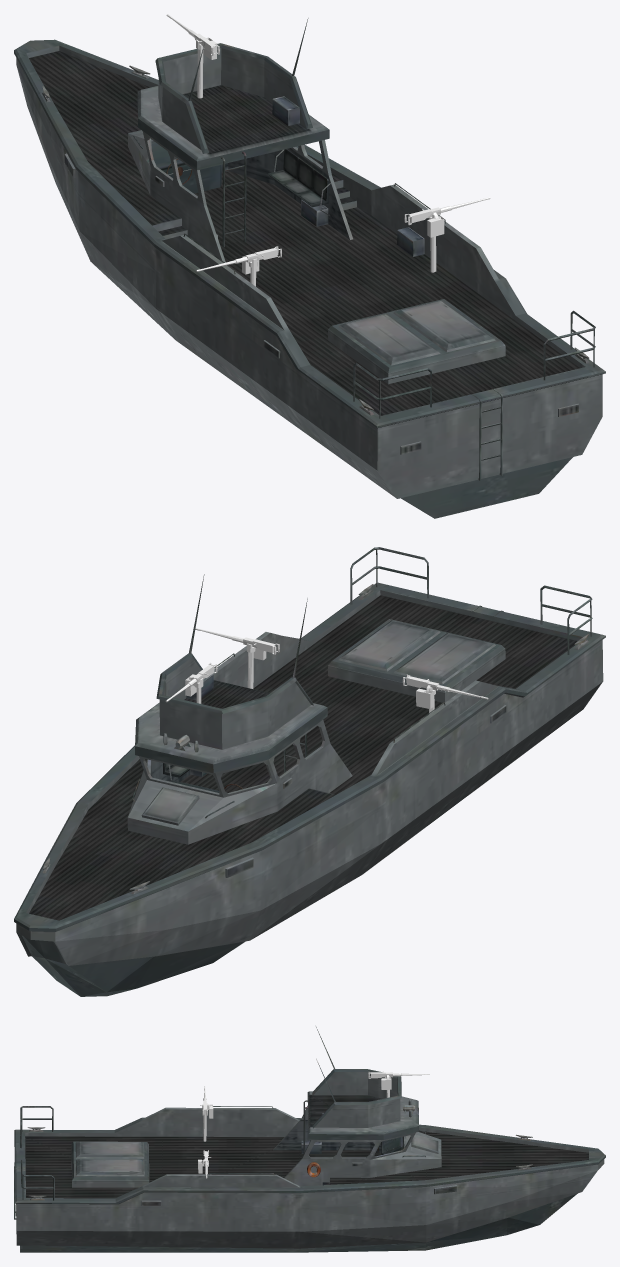
File: boat.glb
The picture shows the model from 3 angles, top to bottom: view 1: azimuth 30°, elevation 25°; view 2: azimuth 150°, elevation 25°; view 3: azimuth 270°, elevation 25°; orthographic projection. The views are drawn at different scales.
Visible parts, largest first — view 1: hull, GunR, GunRoof, GunL; view 2: hull, GunR, GunL, GunRoof; view 3: hull, GunRoof.
Boxes of the visible parts, <box> form: hull: <box>14,18,605,518</box>; GunR: <box>404,197,490,272</box>; GunRoof: <box>166,14,219,98</box>; GunL: <box>196,246,281,286</box>; hull: <box>14,547,605,996</box>; GunR: <box>195,628,279,688</box>; GunL: <box>402,674,488,713</box>; GunRoof: <box>165,662,217,703</box>; hull: <box>14,1027,605,1252</box>; GunRoof: <box>368,1071,429,1097</box>.
Bounding box in the file's own units: 5.24 × 5.24 × 14.33.
2 materials, 1 textured.
